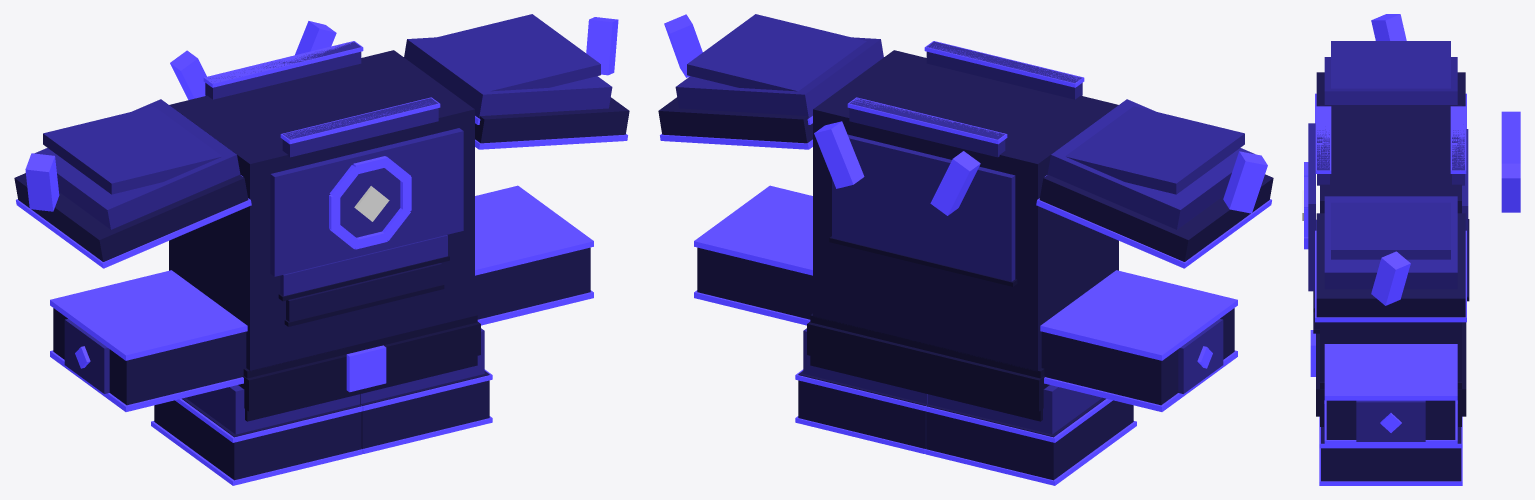
3 views of the same model, side by side, from view 1: azimuth 30°, elevation 25°; view 2: azimuth 150°, elevation 25°; view 3: azimuth 270°, elevation 25° (orthographic). The views are drawn at different scales.
Visible parts, largest first — view 1: rank-warper-c; view 2: rank-warper-c; view 3: rank-warper-c.
Part boxes in pixels (x1,y1,x2,y2): rank-warper-c: (14,14,629,485); rank-warper-c: (658,14,1273,485); rank-warper-c: (1302,14,1520,485).
Bounding box in the file's own units: 1.47 × 0.7874 × 0.5292.
